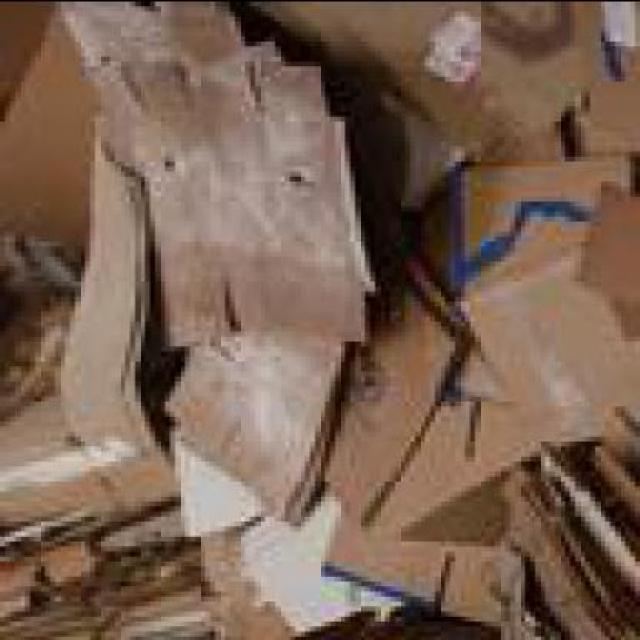CARDBOARD: (0, 4, 637, 638), (94, 50, 366, 350), (235, 5, 600, 150), (460, 185, 635, 450), (320, 215, 455, 530), (50, 125, 150, 500), (154, 350, 346, 530), (310, 470, 505, 630), (406, 130, 574, 310), (0, 4, 95, 300), (304, 504, 502, 638), (355, 400, 540, 540), (494, 480, 635, 638), (0, 543, 212, 638), (225, 506, 380, 634), (45, 5, 240, 100), (0, 406, 111, 546), (534, 450, 634, 605), (184, 536, 316, 638), (360, 95, 449, 230), (165, 434, 250, 546), (0, 304, 60, 416), (574, 54, 634, 154), (586, 415, 634, 510), (95, 504, 190, 544), (596, 5, 636, 54)
